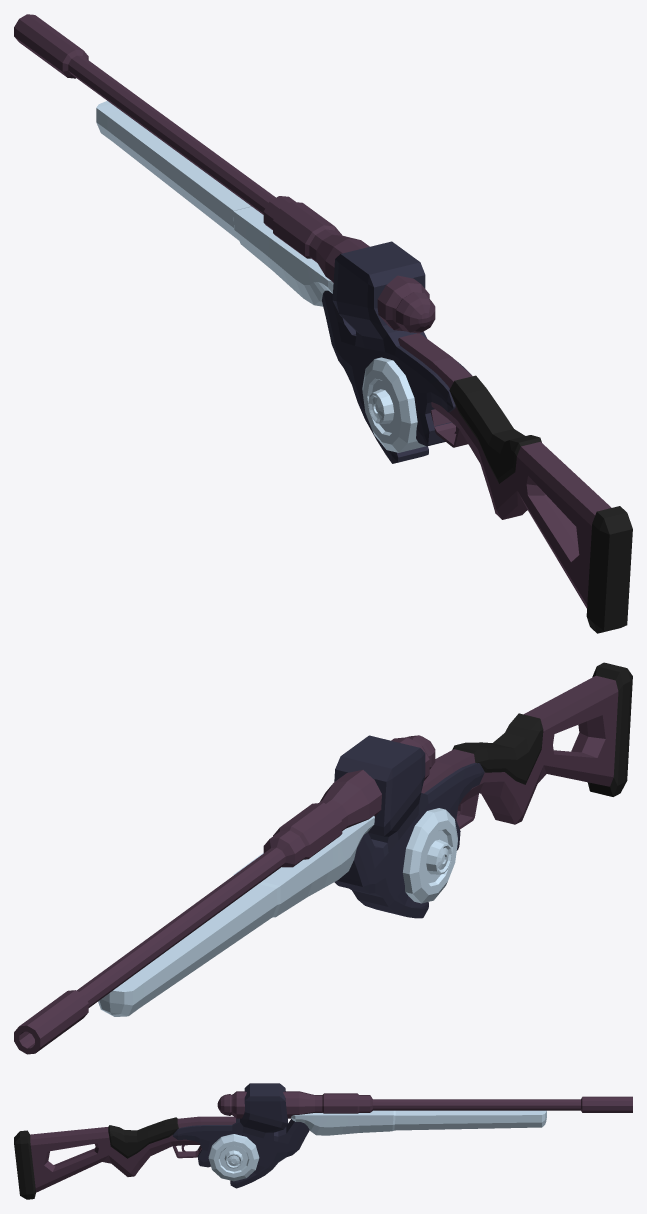
File: scifi-sniper-rifle.glb
The picture shows the model from 3 angles, top to bottom: view 1: azimuth 30°, elevation 25°; view 2: azimuth 150°, elevation 25°; view 3: azimuth 270°, elevation 25°; orthographic projection. The views are drawn at different scales.
Visible parts, largest first — view 1: SniperRifle; view 2: SniperRifle; view 3: SniperRifle.
Part boxes in pixels (left/top/right/bottom): SniperRifle: left=14, top=14, right=632, bottom=633; SniperRifle: left=14, top=662, right=632, bottom=1054; SniperRifle: left=14, top=1083, right=632, bottom=1199.
Size of the model in its own units: 0.7699 by 2.2 by 11.53.
